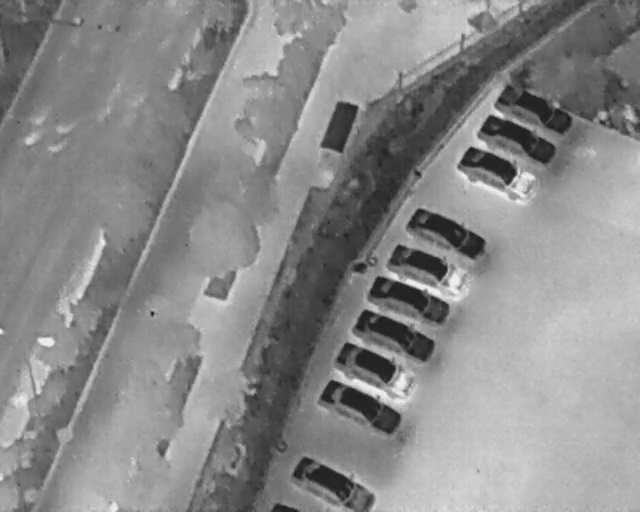Car: (361, 266, 458, 335), (450, 138, 542, 210), (400, 199, 492, 268), (315, 373, 407, 442), (330, 336, 421, 404), (348, 302, 441, 368), (490, 74, 580, 141), (471, 106, 561, 173), (383, 237, 475, 302), (288, 456, 382, 510)
